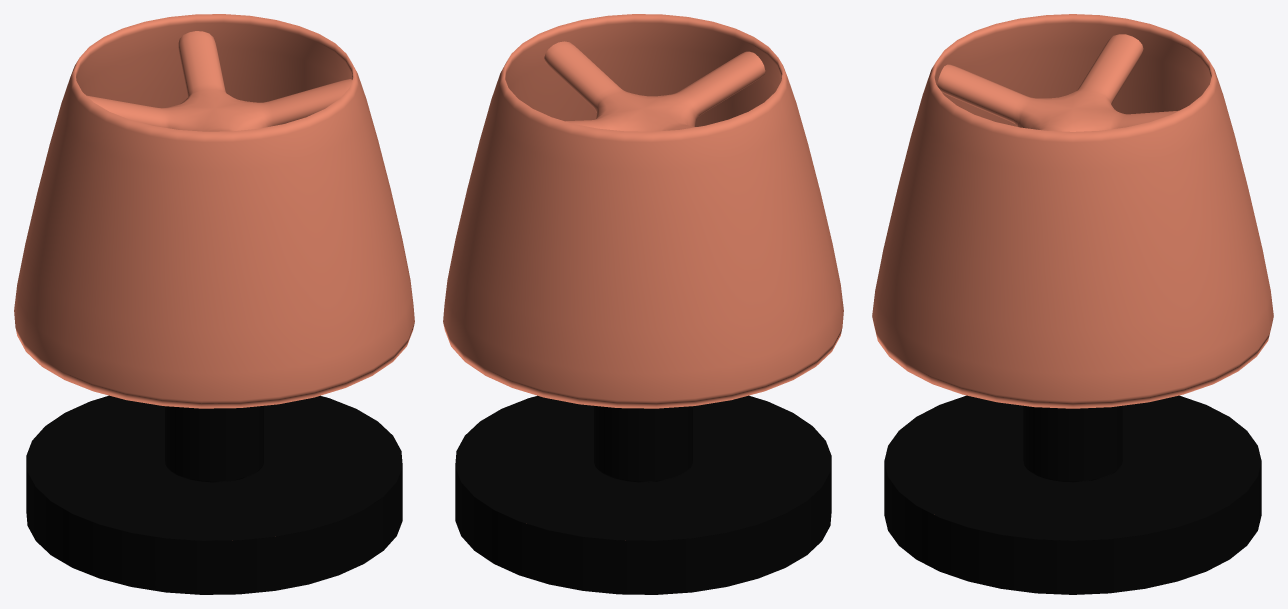
The model's file is lamp_1.glb.
3 renders of one model, left to right at view 1: azimuth 30°, elevation 25°; view 2: azimuth 150°, elevation 25°; view 3: azimuth 270°, elevation 25°, orthographic.
Parts seen in each view (by area): view 1: Object_49, Object_50; view 2: Object_49, Object_50; view 3: Object_49, Object_50.
Part boxes in pixels (left/top/right/bottom): Object_49: left=14, top=14, right=414, bottom=408; Object_50: left=26, top=395, right=402, bottom=594; Object_49: left=443, top=14, right=843, bottom=408; Object_50: left=455, top=395, right=831, bottom=594; Object_49: left=872, top=14, right=1273, bottom=408; Object_50: left=884, top=395, right=1261, bottom=594.
Bounding box in the file's own units: 0.6063 × 0.7364 × 0.6063.
